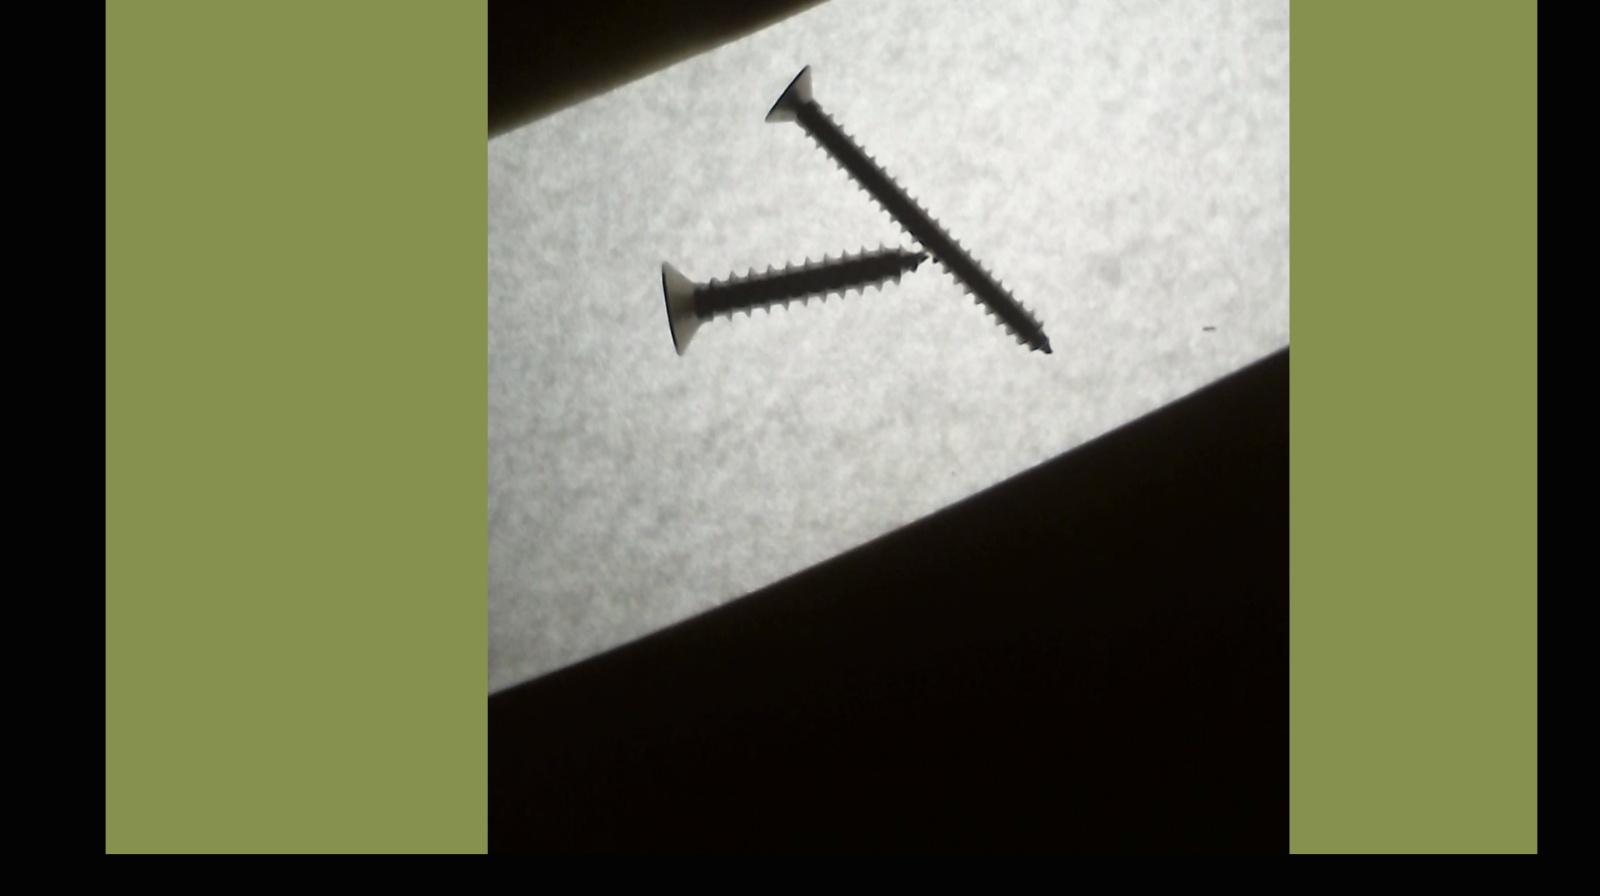S001: (654, 237, 927, 365)
S002: (762, 62, 1057, 354)
